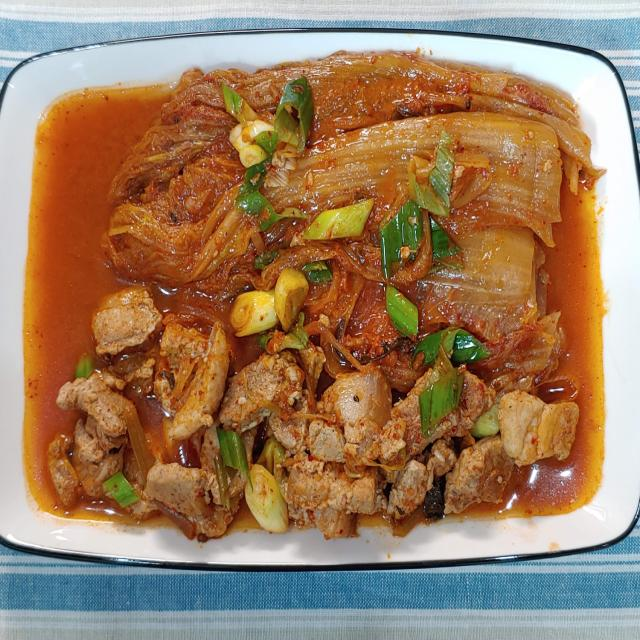carne de res: (95, 77, 612, 300)
